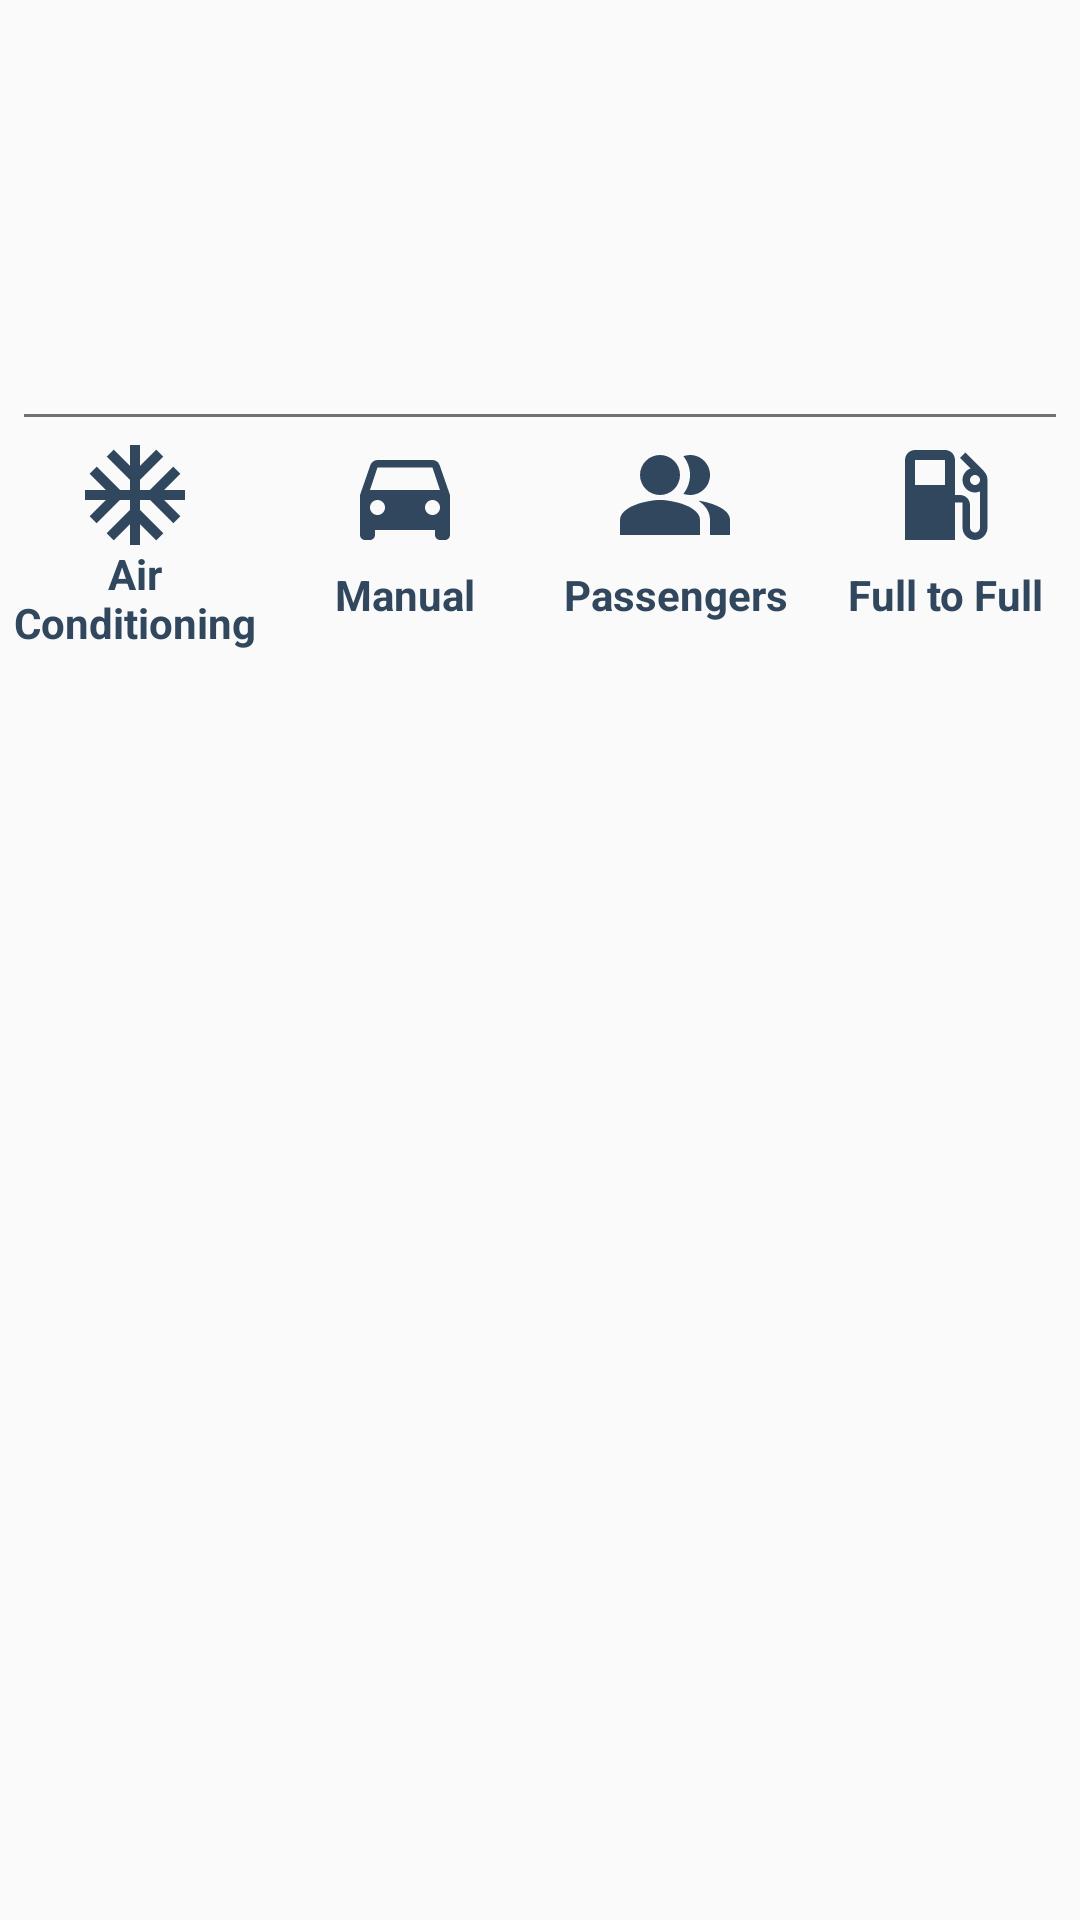

Named icons in this screenshot (1080px x 1920px) and their bounding boxes, (x1, y1, x2, y2):
car 30475e: (360, 460, 450, 540)
gas station 30475e: (905, 450, 988, 540)
snowflake 30475e: (85, 445, 185, 545)
